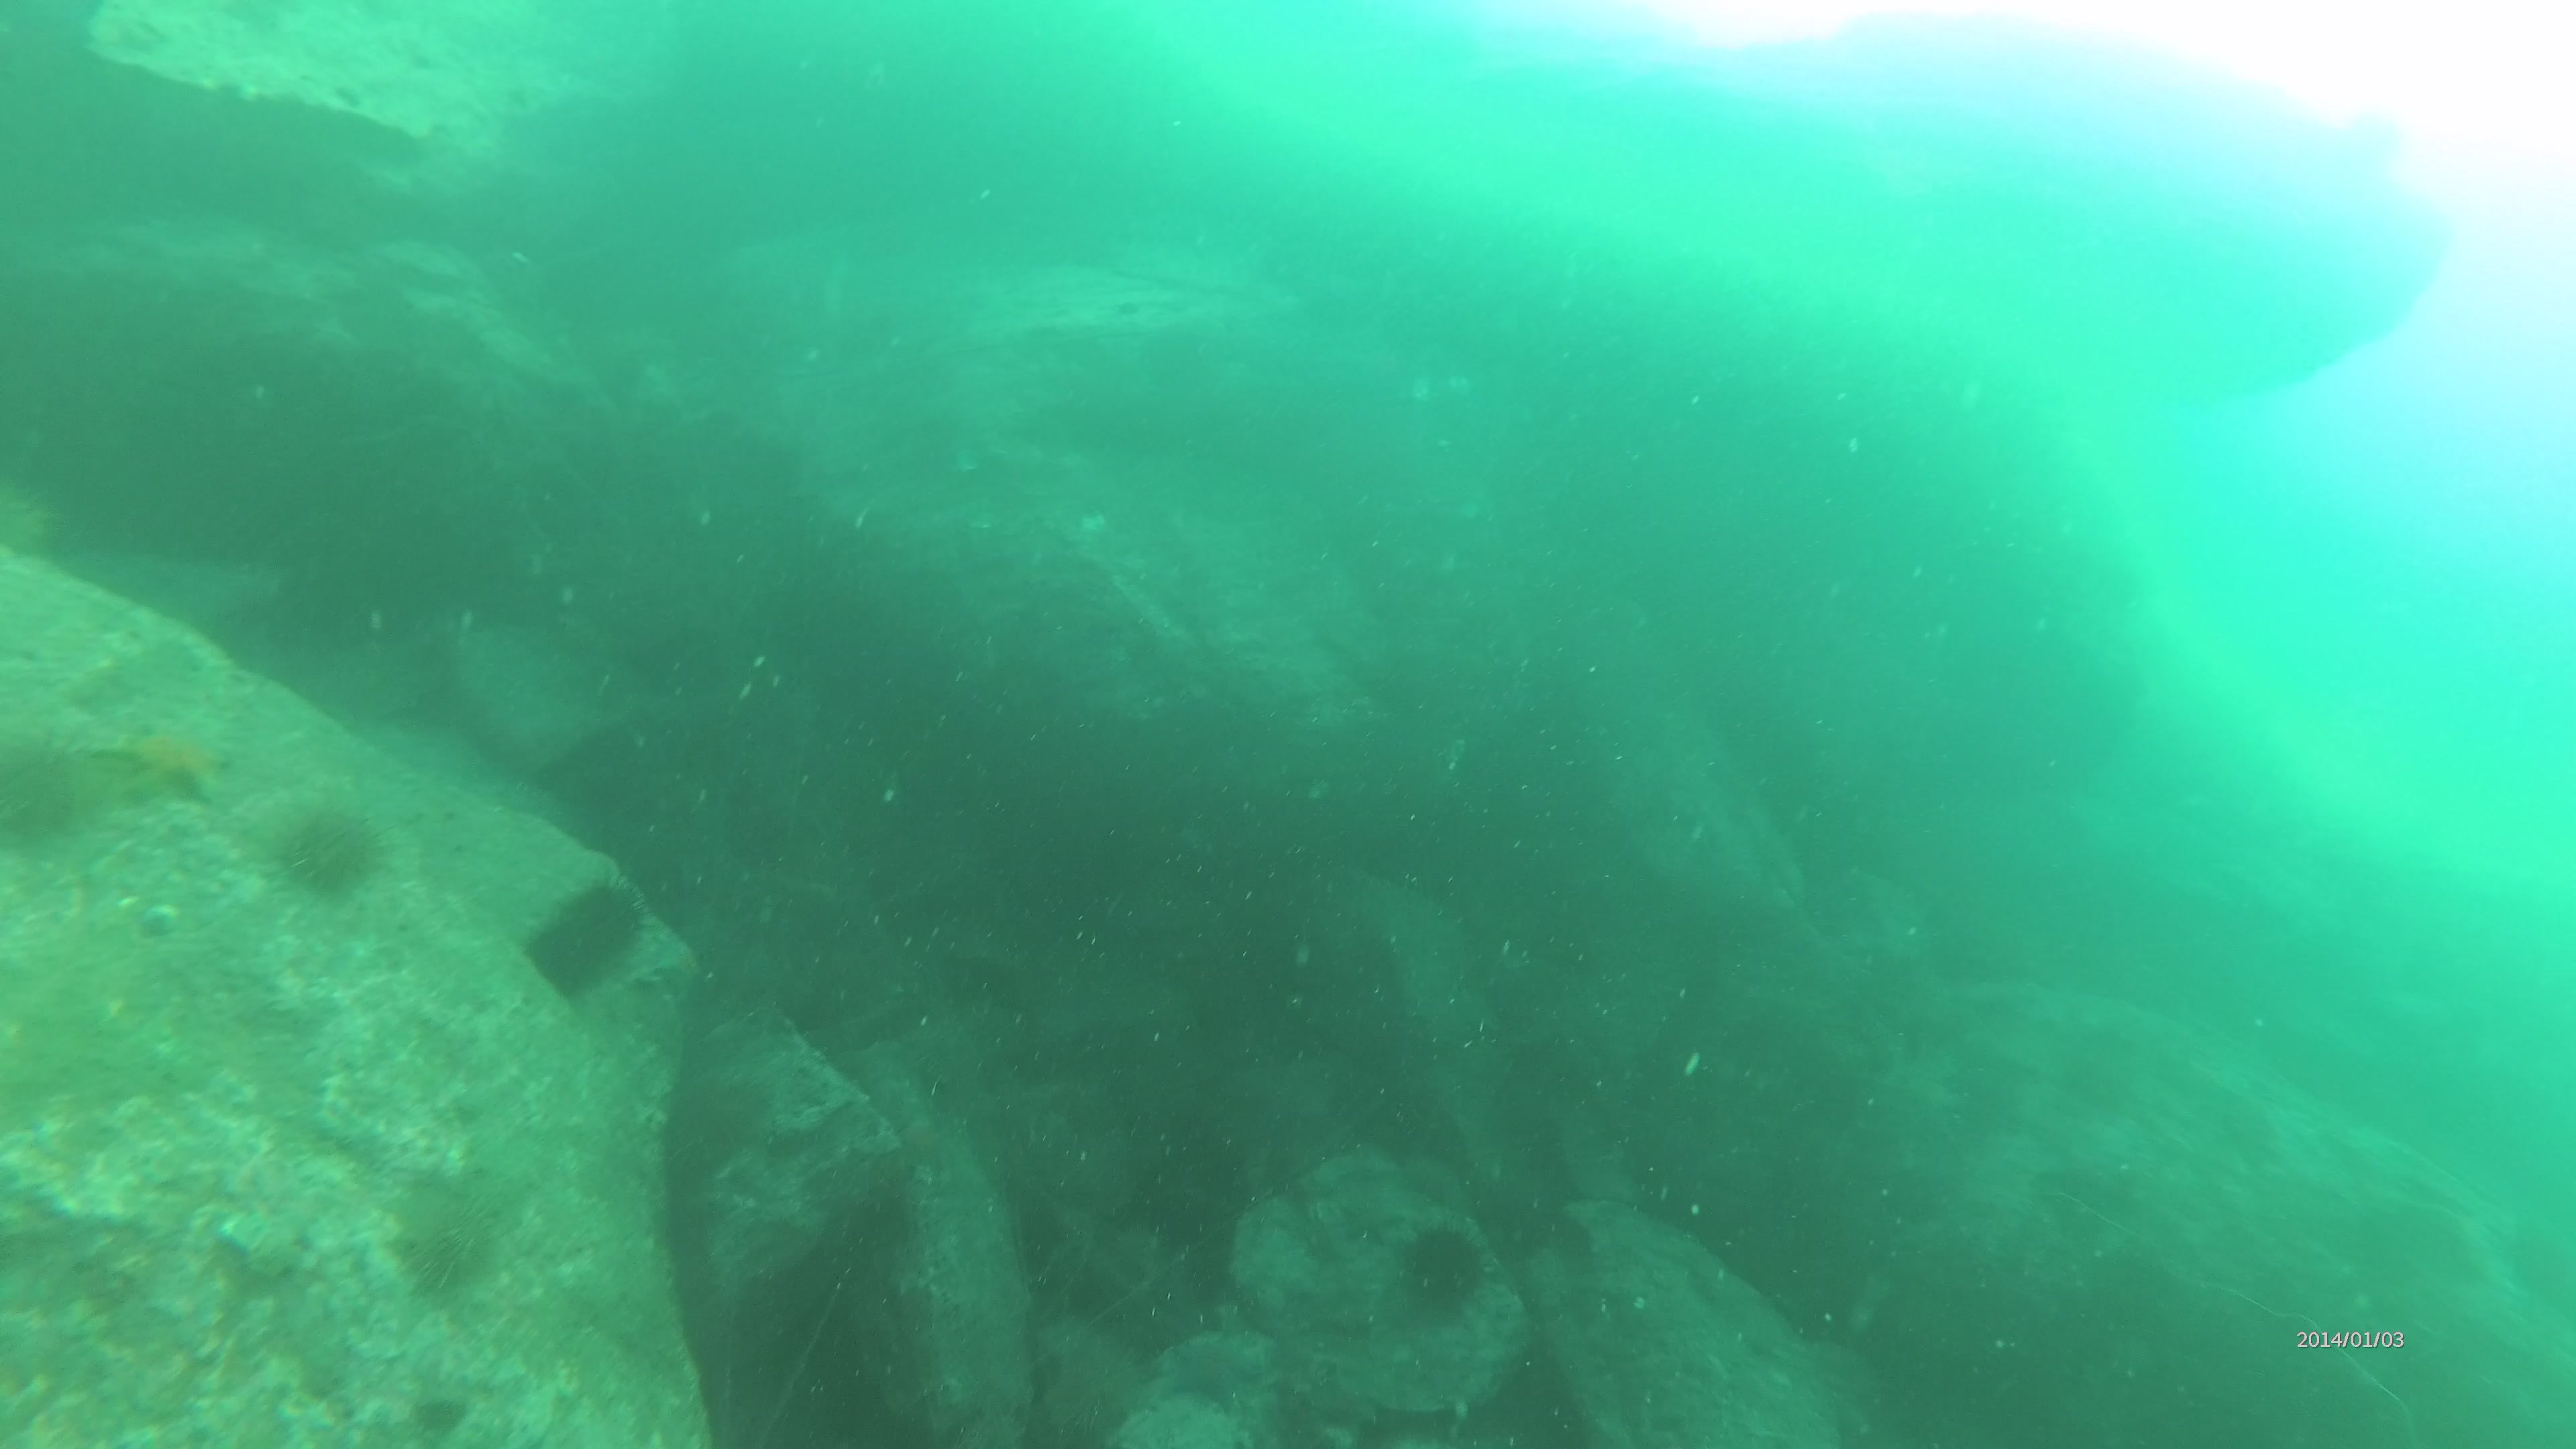echinus: (260, 784, 391, 899), (391, 1166, 497, 1297), (1389, 1203, 1499, 1322), (0, 717, 74, 842)
holothurian: (520, 878, 653, 996)
starfish: (90, 702, 234, 807)
